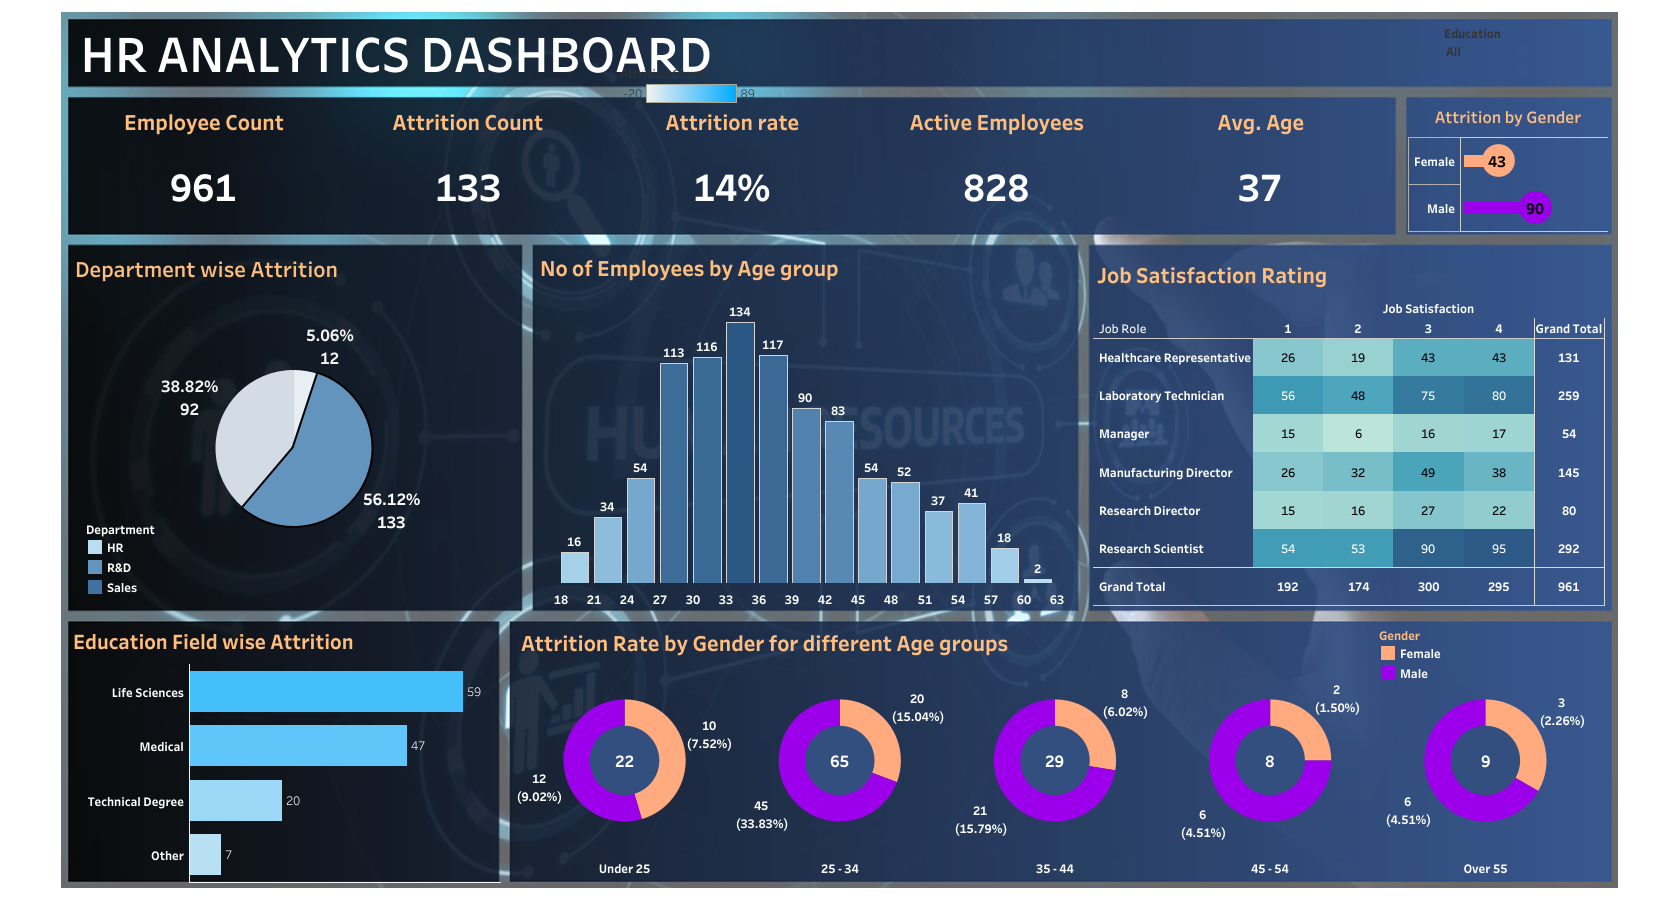

What the dashboard file says about the page in this screenshot:
{"tool":"tableau","page":{"name":"HR Analytics Dashboard","canvas":[1680,900],"ordinal":0},"visuals":[{"type":"image","param":"D:/Data Analytics/Data Analytics Projects/Portfolio projects/Tableau projects/HR","box":[8,8,1664,884]},{"type":"text","box":[78,23,1125,58]},{"type":"filter","title":"KPI","param":"[federated.1jcx6fq0z0b1ij19rsqne18s2c5n].[none:Education:nk]","box":[1444,23,160,59]},{"type":"legend","title":"Education Field wise Attrition","param":"[federated.1jcx6fq0z0b1ij19rsqne18s2c5n].[sum:Calculation_351562259613630464:qk]","box":[620,60,140,76]},{"type":"worksheet","title":"Attrition by Gender","mark":"Automatic","rows":["Gender"],"cols":["Calculation_351562259613630464","Calculation_351562259613630464"],"box":[1408,99,200,133]},{"type":"worksheet","title":"KPI","mark":"Automatic","box":[72,101,1321,130]},{"type":"worksheet","title":"No of Employees by Age group","mark":"Automatic","rows":["Age"],"cols":["Age (bin)"],"box":[536,247,540,360]},{"type":"worksheet","title":"Department wise Attrition","mark":"Pie","box":[71,248,445,356]},{"type":"worksheet","title":"Job Satisfaction Rating","mark":"Square","rows":["Job Role"],"cols":["Job Satisfaction"],"box":[1093,254,512,352]},{"type":"legend","title":"Department wise Attrition","param":"[federated.1jcx6fq0z0b1ij19rsqne18s2c5n].[none:Department:nk]","box":[85,518,84,78]},{"type":"worksheet","title":"Education Field wise Attrition","mark":"Automatic","rows":["Education Field"],"cols":["Calculation_351562259613630464"],"box":[69,621,431,261]},{"type":"worksheet","title":"Attrition Rate by Gender for different Age groups","mark":"Pie","rows":["Calculation_351562260015116293","Calculation_351562260015116293"],"cols":["CF_age band"],"box":[517,622,1076,255]},{"type":"legend","title":"Attrition Rate by Gender for different Age groups","param":"[federated.1jcx6fq0z0b1ij19rsqne18s2c5n].[none:Gender:nk]","box":[1378,624,140,58]}]}

Visuals, with their boxes in screenshot pixels (x1, y1, x2, y2), scaled from the page's 1680x900 canvas onto the 1679x899 screenshot:
image: select_region(8, 8, 1671, 891)
text: select_region(78, 23, 1202, 81)
"KPI" filter: select_region(1443, 23, 1603, 82)
"Education Field wise Attrition" legend: select_region(620, 60, 760, 136)
"Attrition by Gender" worksheet: select_region(1407, 99, 1607, 232)
"KPI" worksheet: select_region(72, 101, 1392, 231)
"No of Employees by Age group" worksheet: select_region(536, 247, 1075, 606)
"Department wise Attrition" worksheet (Pie marks): select_region(71, 248, 516, 603)
"Job Satisfaction Rating" worksheet (Square marks): select_region(1092, 254, 1604, 605)
"Department wise Attrition" legend: select_region(85, 517, 169, 595)
"Education Field wise Attrition" worksheet: select_region(69, 620, 500, 881)
"Attrition Rate by Gender for different Age groups" worksheet (Pie marks): select_region(517, 621, 1592, 876)
"Attrition Rate by Gender for different Age groups" legend: select_region(1377, 623, 1517, 681)
